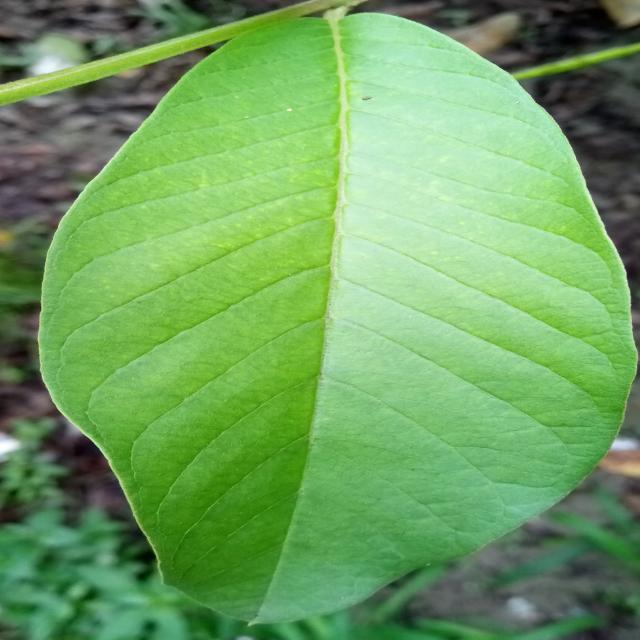Disease Free: (40, 10, 635, 621)
